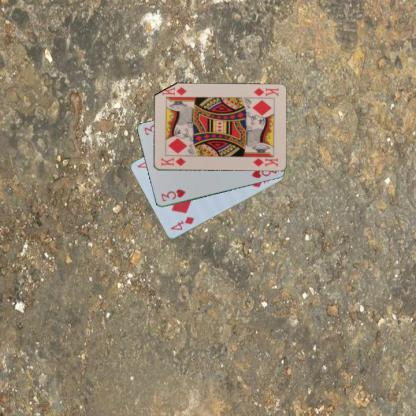3h: (158, 186, 187, 202)
4d: (168, 214, 195, 232)
Kd: (158, 155, 187, 167), (251, 86, 280, 98)
